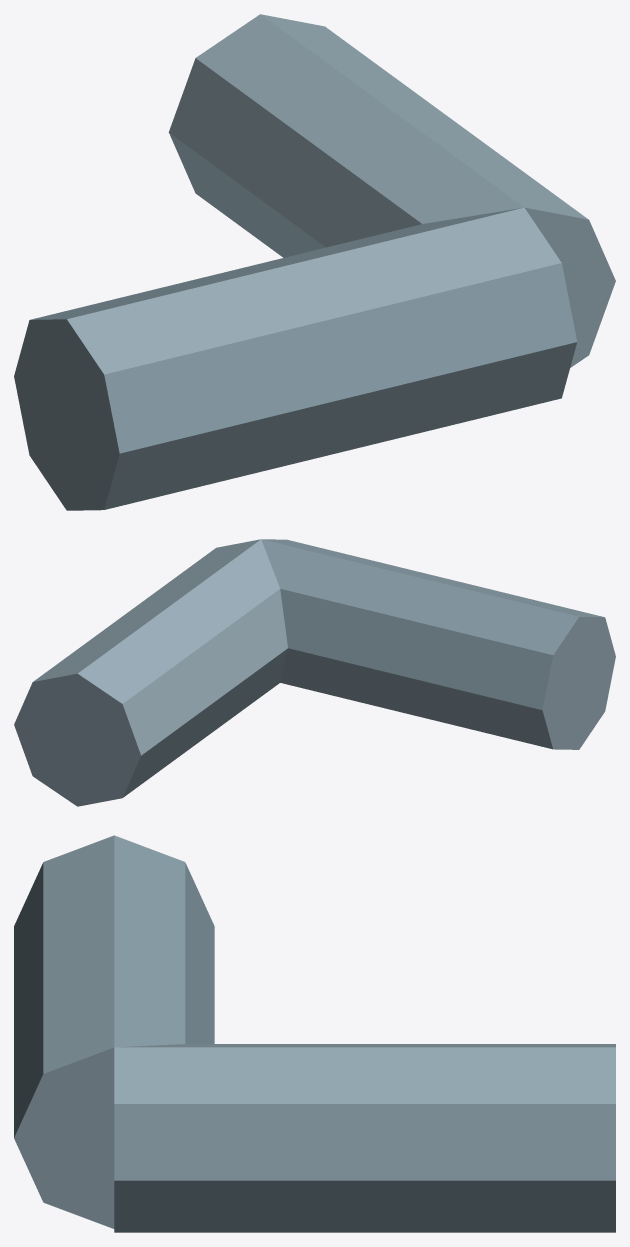
File: N05_Elbow.fbx
The picture shows the model from 3 angles, top to bottom: view 1: azimuth 30°, elevation 25°; view 2: azimuth 150°, elevation 25°; view 3: azimuth 270°, elevation 25°; orthographic projection. The views are drawn at different scales.
Visible parts, largest first — view 1: N05_Elbow.001; view 2: N05_Elbow.001; view 3: N05_Elbow.001.
Part boxes in pixels (x1,y1,x2,y2): N05_Elbow.001: (14,14,615,510); N05_Elbow.001: (14,539,615,806); N05_Elbow.001: (14,835,615,1232).
Size of the model in its own units: 0.36 by 0.12 by 0.36.
